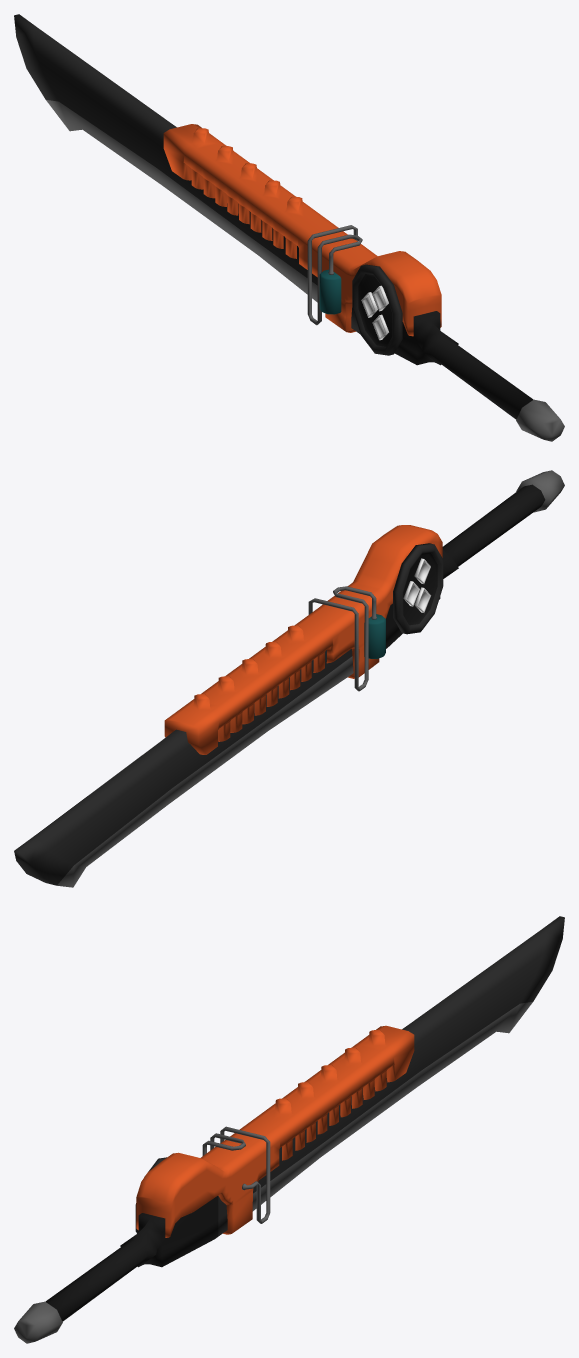
Rendered from Weapon.fbx.
3 views of the same model, one above another, from view 1: azimuth 30°, elevation 25°; view 2: azimuth 150°, elevation 25°; view 3: azimuth 330°, elevation 25° (orthographic).
Visible parts, largest first — view 1: Box001, Box002, Cylinder003, Cylinder002, Cylinder001; view 2: Box001, Box002, Cylinder003, Cylinder002, Cylinder001; view 3: Box001, Box002, Cylinder002.
Boxes of the visible parts, bbox=[...] form: Box001: bbox=[14, 14, 564, 441]; Box002: bbox=[163, 124, 441, 336]; Cylinder003: bbox=[352, 264, 402, 355]; Cylinder002: bbox=[307, 225, 362, 325]; Cylinder001: bbox=[319, 269, 341, 314]; Box001: bbox=[14, 470, 564, 887]; Box002: bbox=[164, 525, 442, 754]; Cylinder003: bbox=[393, 543, 443, 634]; Cylinder002: bbox=[308, 586, 376, 691]; Cylinder001: bbox=[364, 614, 385, 658]; Box001: bbox=[14, 916, 564, 1343]; Box002: bbox=[136, 1025, 414, 1237]; Cylinder002: bbox=[202, 1126, 270, 1223].
Size of the model in its own units: 2.92 by 5.47 by 48.34.
